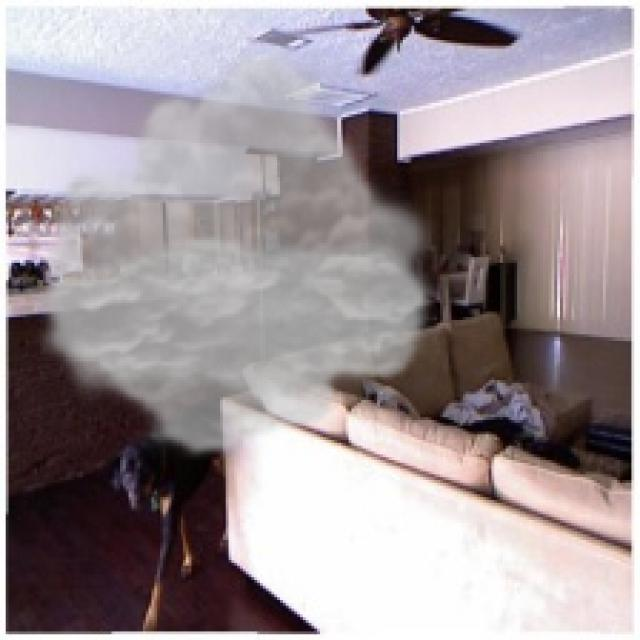smoke: (28, 43, 443, 460)
